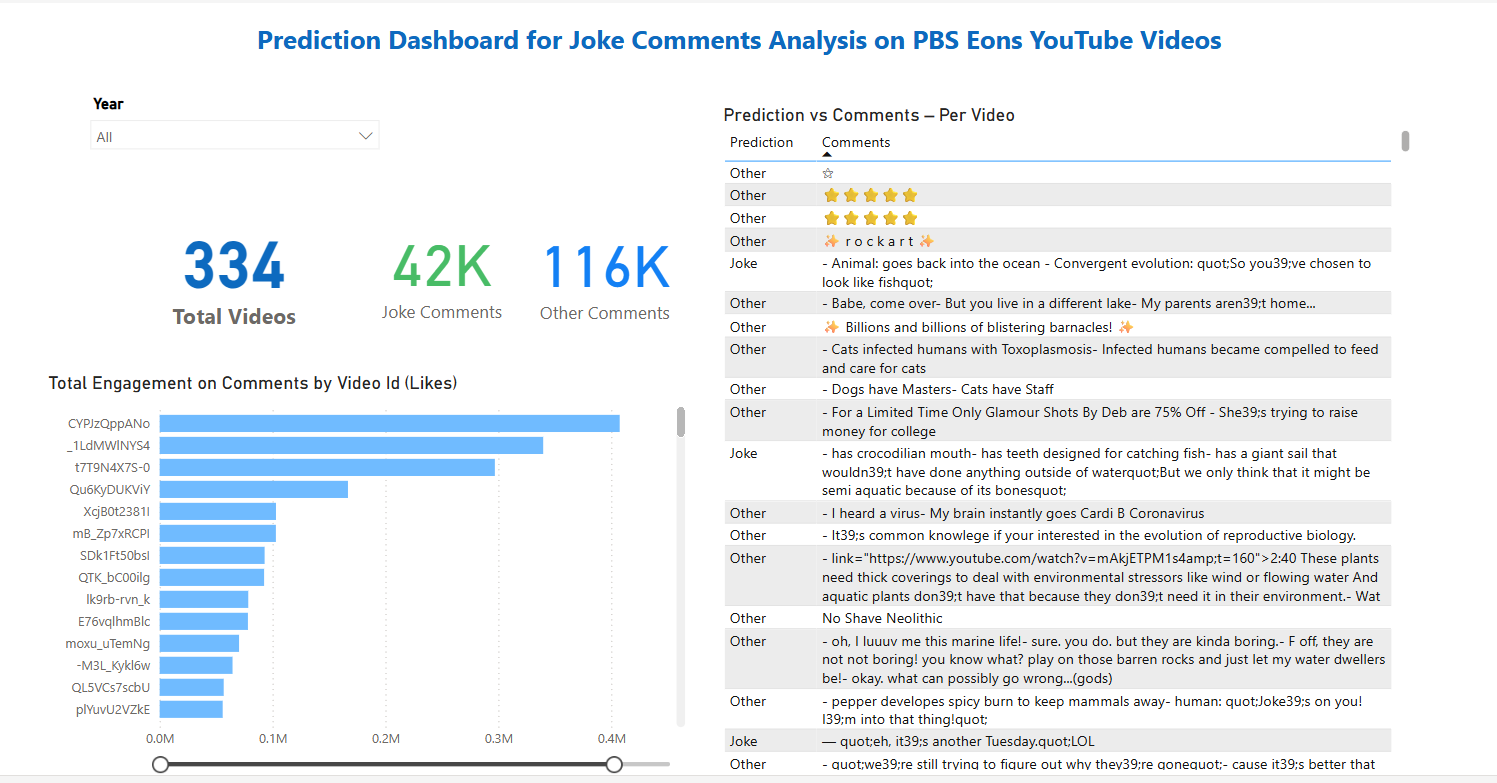

Layout of this report page (visuals, bound fields, positions):
{"tool":"powerbi","page":{"name":"Page 1","canvas":[1280,720],"ordinal":0},"visuals":[{"type":"slicer","fields":{"Values":["Master File.date.Variation.Date Hierarchy.Year","Master File.videoId"]},"box":[34.2,80.7,289.8,75.8],"z":0},{"type":"tableEx","title":"Prediction vs Comments – Per Video","fields":{"Values":["Master File.prediction","Master File.textDisplay"]},"box":[629.8,94.2,650.5,626.1],"z":1000},{"type":"clusteredBarChart","title":"Total Engagement on Comments by Video Id (Likes)","fields":{"Category":["Master File.videoId"],"Y":["Master File.likeCount"]},"box":[0,343.6,604.1,376.6],"z":2000},{"type":"card","title":"Total Unique Videos","fields":{"Values":["video_title.videoId"]},"box":[67.2,169.4,221.9,161.4],"z":3000},{"type":"textbox","box":[178.7,13.2,941.7,49.8],"z":4000},{"type":"card","fields":{"Values":["Master File.Joke Count"]},"box":[302.6,193.7,138.5,111.6],"z":4001},{"type":"card","fields":{"Values":["Master File.Other Comments"]},"box":[443.8,193.7,160,113],"z":4002}]}

Visuals, with their boxes on the page's 1280x720 design canvas (x1, y1, x2, y2). These are canvas units, not pixel positions in the 1497x783 screenshot, which may show the page scaled, cropped or inside an application window:
slicer - Master File.date.Variation.Date Hierarchy.Year x Master File.videoId: [x1=34, y1=81, x2=324, y2=156]
"Prediction vs Comments – Per Video" tableEx: [x1=630, y1=94, x2=1280, y2=720]
"Total Engagement on Comments by Video Id (Likes)" clusteredBarChart: [x1=0, y1=344, x2=604, y2=720]
"Total Unique Videos" card: [x1=67, y1=169, x2=289, y2=331]
textbox: [x1=179, y1=13, x2=1120, y2=63]
card - Master File.Joke Count: [x1=303, y1=194, x2=441, y2=305]
card - Master File.Other Comments: [x1=444, y1=194, x2=604, y2=307]
